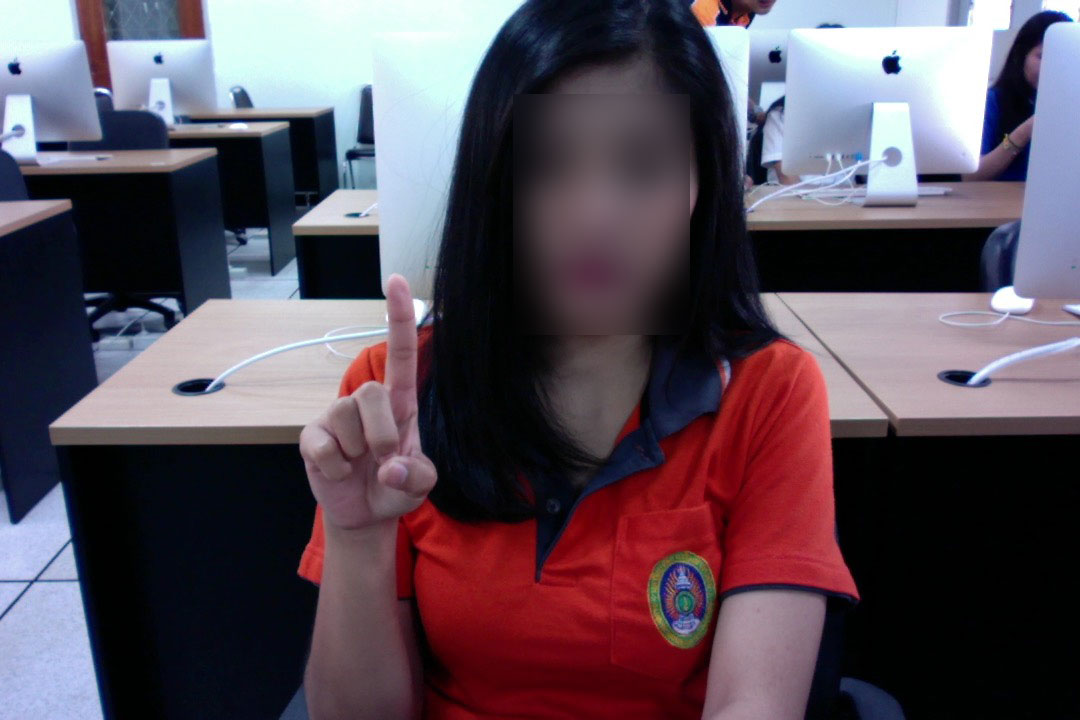dor: (293, 264, 439, 546)
